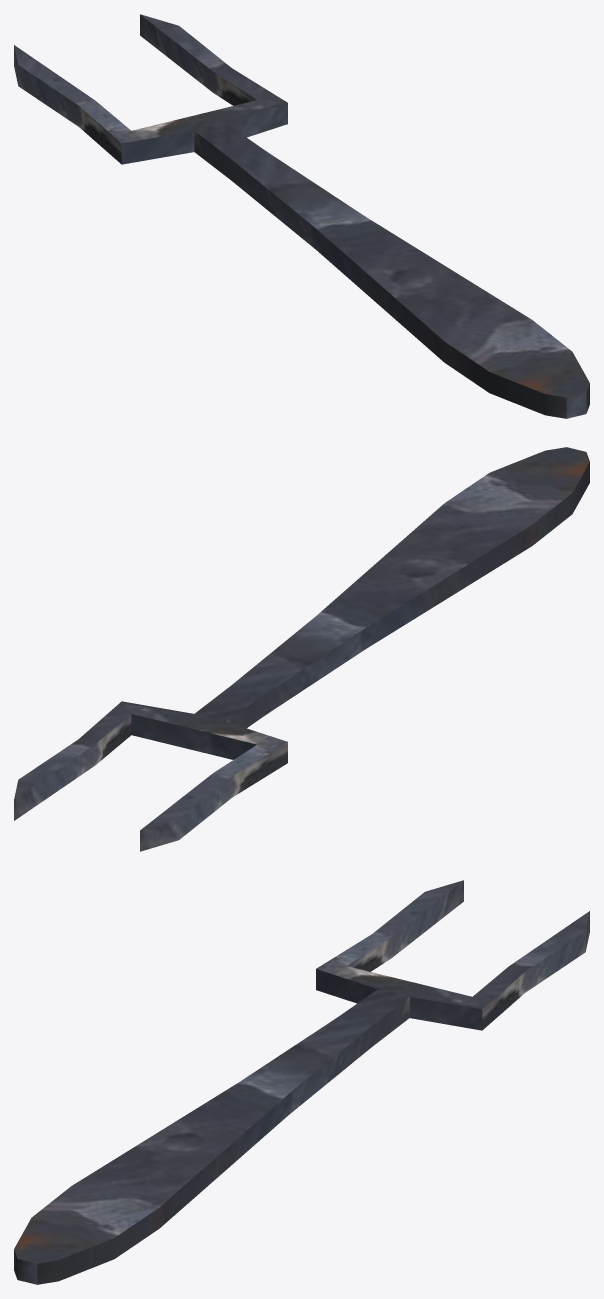
Rendered from tr_fork.glb.
The picture shows the model from 3 angles, top to bottom: view 1: azimuth 30°, elevation 25°; view 2: azimuth 150°, elevation 25°; view 3: azimuth 330°, elevation 25°; orthographic projection.
Parts seen in each view (by area): view 1: model; view 2: model; view 3: model.
Boxes of the visible parts, left/top/right/bottom form: model: left=14, top=14, right=589, bottom=418; model: left=14, top=447, right=589, bottom=851; model: left=14, top=880, right=589, bottom=1284.
Size of the model in its own units: 0.0505 by 0.00616 by 0.2626.
1 material, 1 textured.
